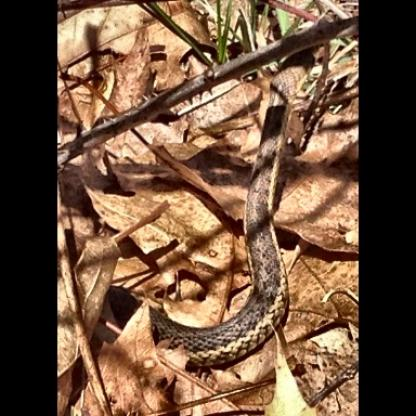Snake: (114, 13, 310, 362)
